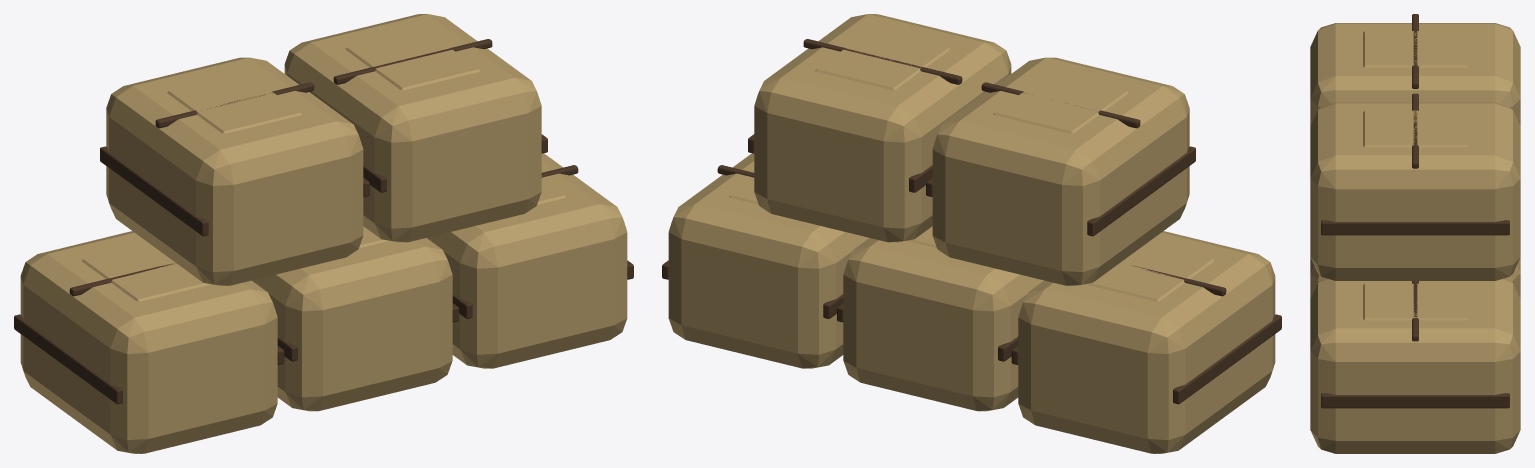
The model's file is sandbag_stack.obj.
3 renders of one model, left to right at view 1: azimuth 30°, elevation 25°; view 2: azimuth 150°, elevation 25°; view 3: azimuth 270°, elevation 25°, orthographic. The views are drawn at different scales.
Visible parts, largest first — view 1: SandbagStack; view 2: SandbagStack; view 3: SandbagStack.
Part boxes in pixels (box(x1,y1,x2,y2)): SandbagStack: box(14, 14, 633, 453); SandbagStack: box(662, 14, 1281, 453); SandbagStack: box(1310, 14, 1520, 453).
Size of the model in its own units: 1.51 by 0.795 by 0.58.
